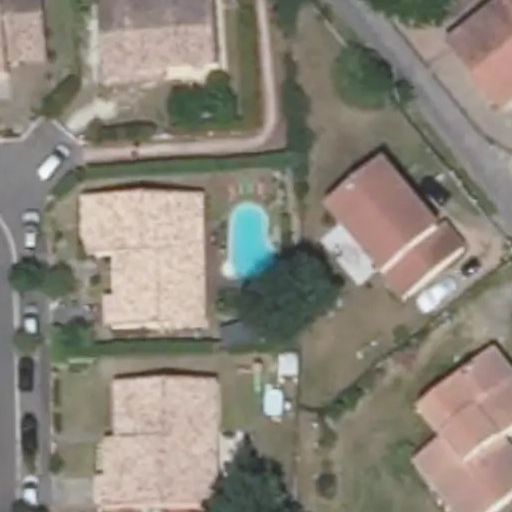pool: (236, 205, 275, 278)
